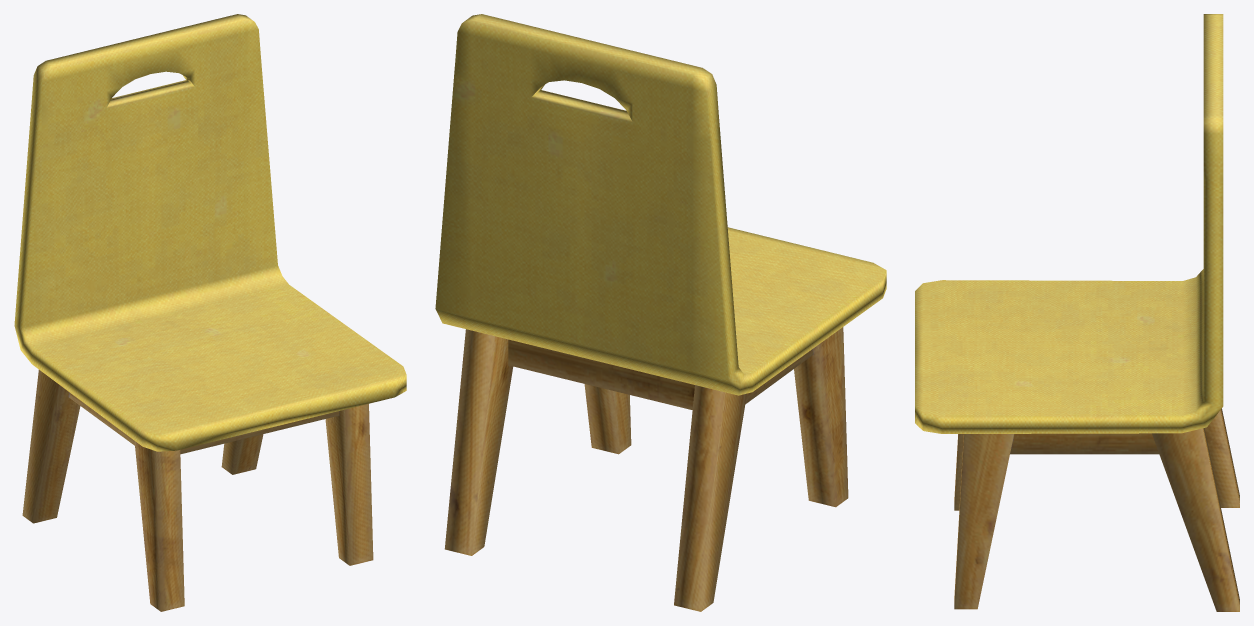
File: a_t01_i01_obj_chair_01.gltf
3 renders of one model, left to right at view 1: azimuth 30°, elevation 25°; view 2: azimuth 150°, elevation 25°; view 3: azimuth 270°, elevation 25°, orthographic. The views are drawn at different scales.
Parts seen in each view (by area): view 1: um_a_t01_i01_obj_chair_01_model_a_t01_i01_obj_chair_01_model; view 2: um_a_t01_i01_obj_chair_01_model_a_t01_i01_obj_chair_01_model; view 3: um_a_t01_i01_obj_chair_01_model_a_t01_i01_obj_chair_01_model.
Part boxes in pixels (x1,y1,x2,y2): um_a_t01_i01_obj_chair_01_model_a_t01_i01_obj_chair_01_model: (14,14,406,611); um_a_t01_i01_obj_chair_01_model_a_t01_i01_obj_chair_01_model: (435,14,886,611); um_a_t01_i01_obj_chair_01_model_a_t01_i01_obj_chair_01_model: (915,14,1239,611).
Bounding box in the file's own units: 0.498 × 0.8329 × 0.5017.
Materials: 1 (1 with a texture image).
